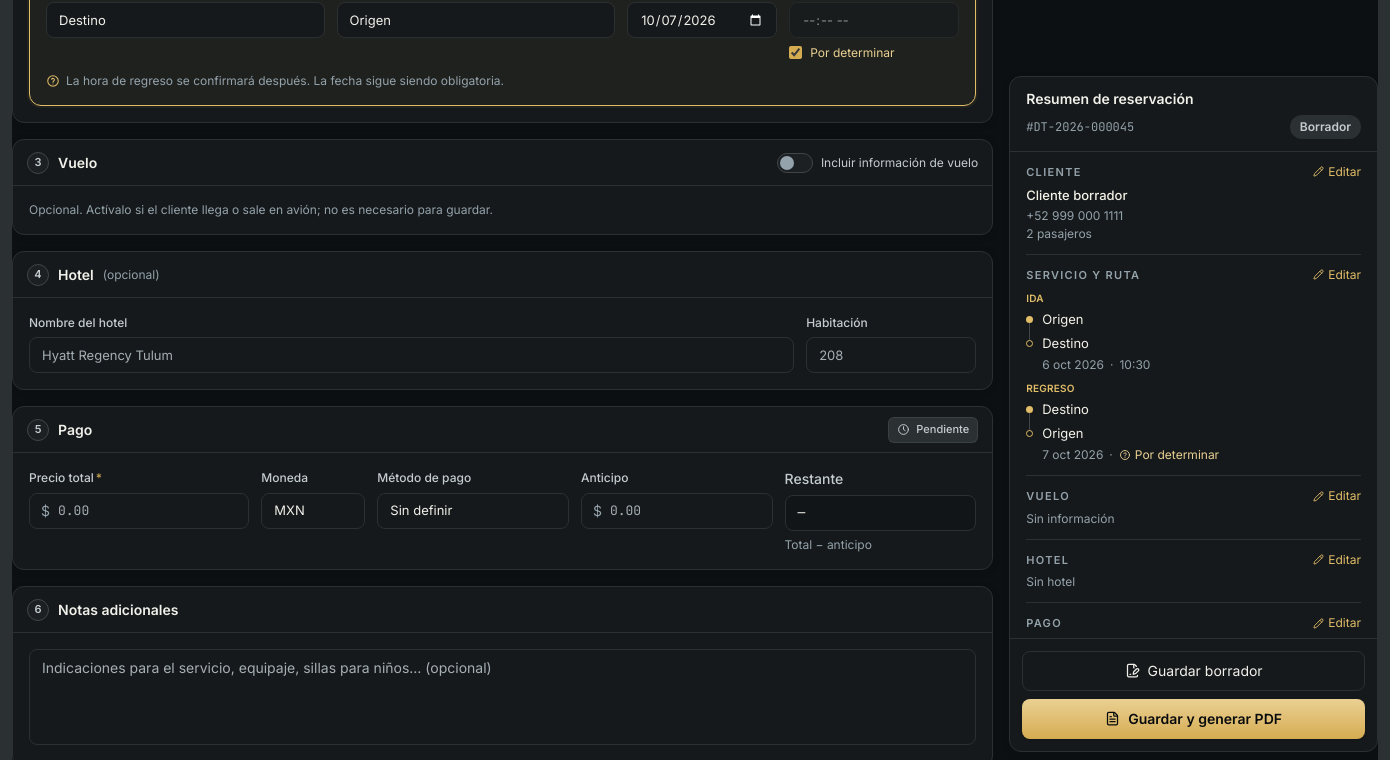
it: Editar y completar una reservación › guardar el borrador lo actualiza sin generar PDF
(page scrolled)
Type "Silla de bebé" into the text box named "Notas adicionales" at (503, 697), box 29,649 -> 976,745
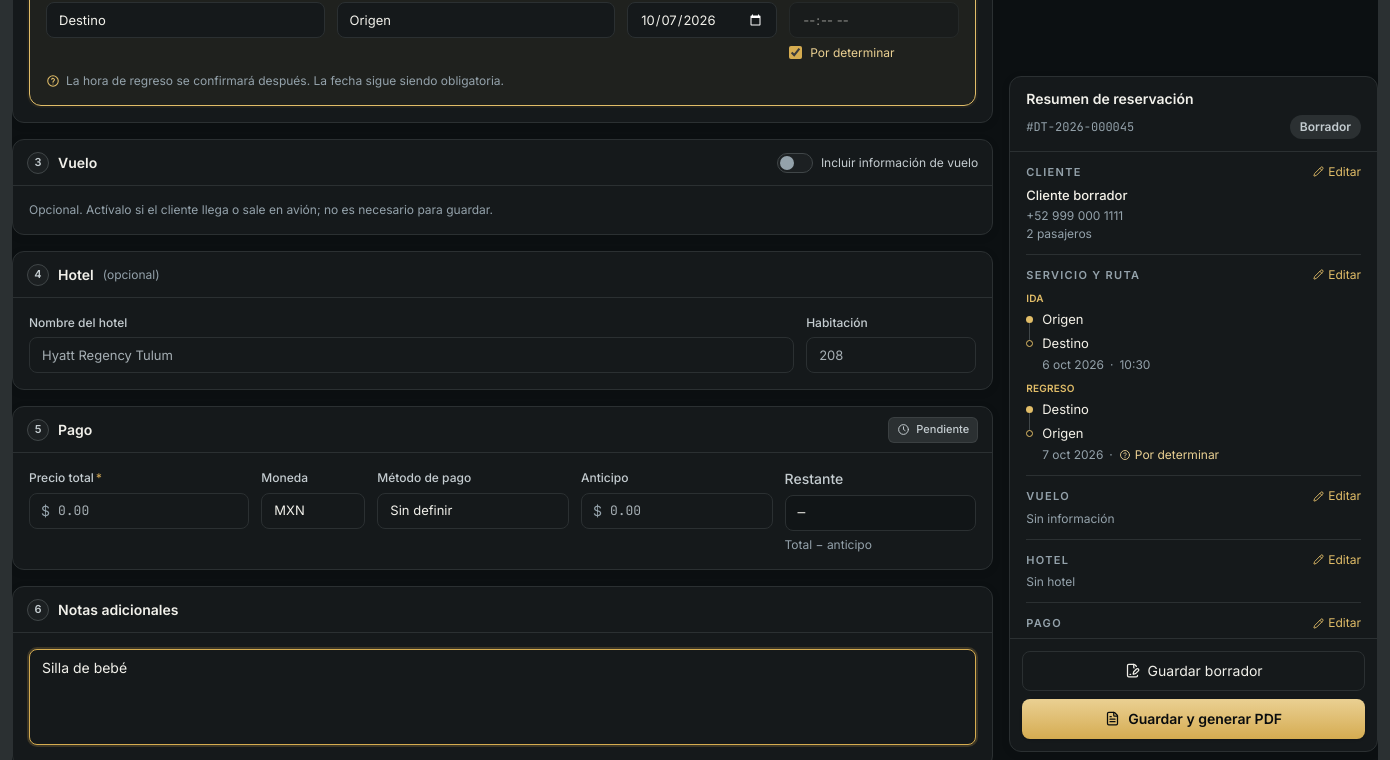
Click the button "Guardar borrador" at (1194, 671), box 1022,651 -> 1365,691
(page scrolled)
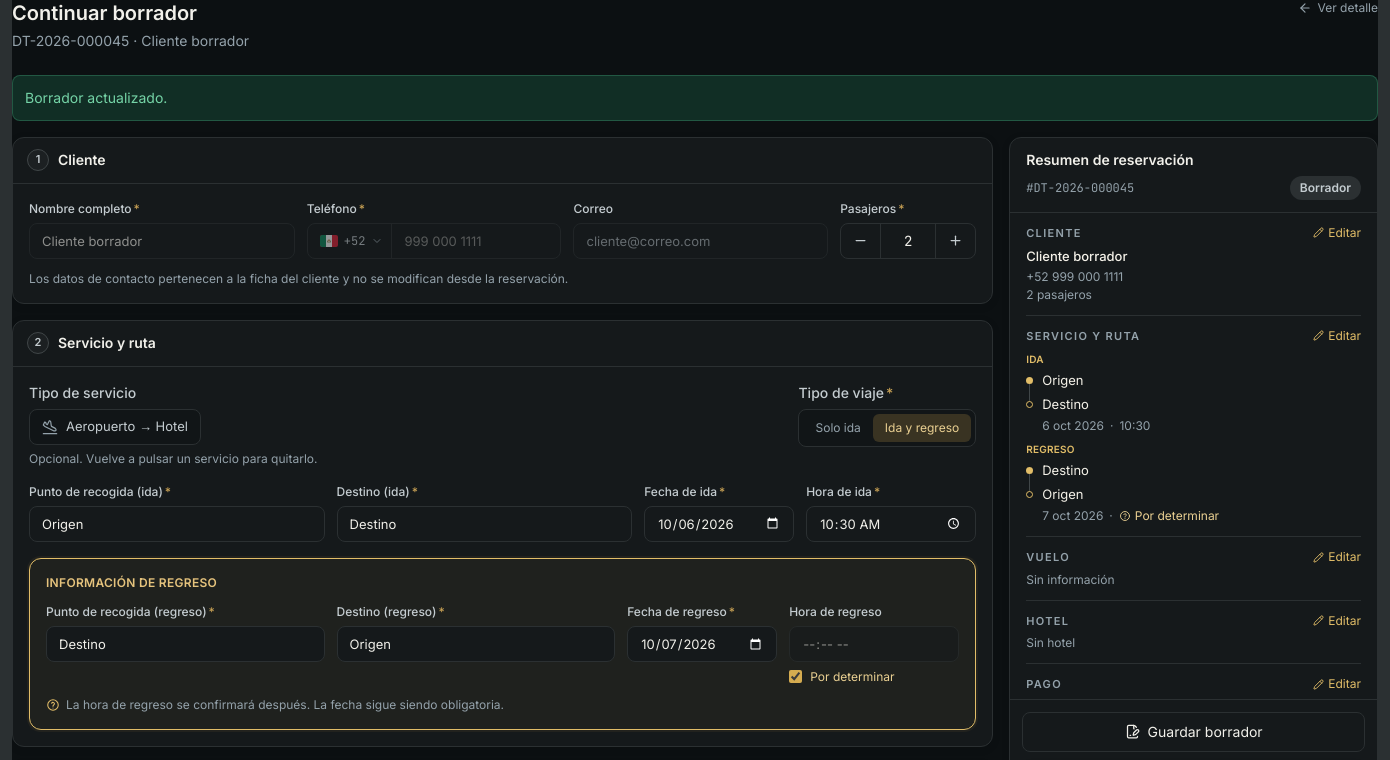
expect the text "Borrador actualizado." is shown: met, box 12,75 -> 1378,121
